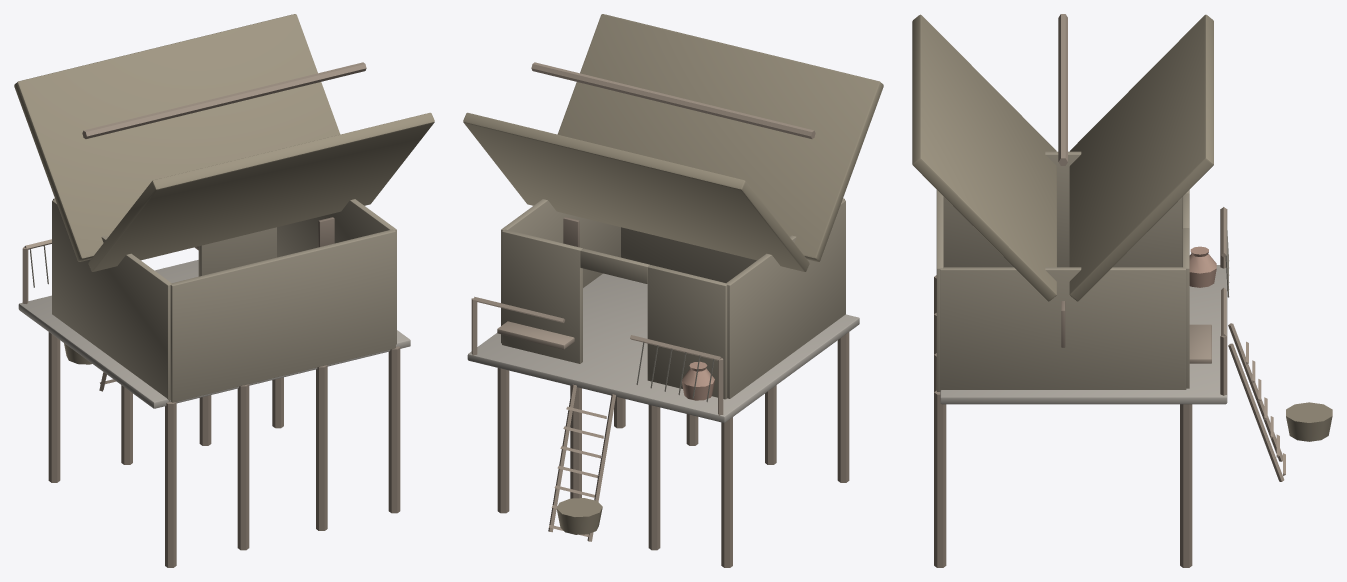
The model's file is stilt_hut.gltf.
3 renders of one model, left to right at view 1: azimuth 30°, elevation 25°; view 2: azimuth 150°, elevation 25°; view 3: azimuth 270°, elevation 25°, orthographic. The views are drawn at different scales.
Visible parts, largest first — view 1: Body; view 2: Body; view 3: Body.
Boxes of the visible parts, x1,y1,x2,y2 form: Body: (14, 14, 434, 567); Body: (463, 14, 883, 567); Body: (912, 14, 1332, 567).
Size of the model in its own units: 5 by 6.81 by 6.15.
